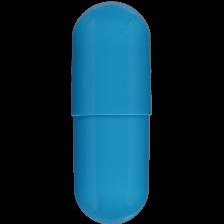69189-2248: (0, 0, 224, 224)
